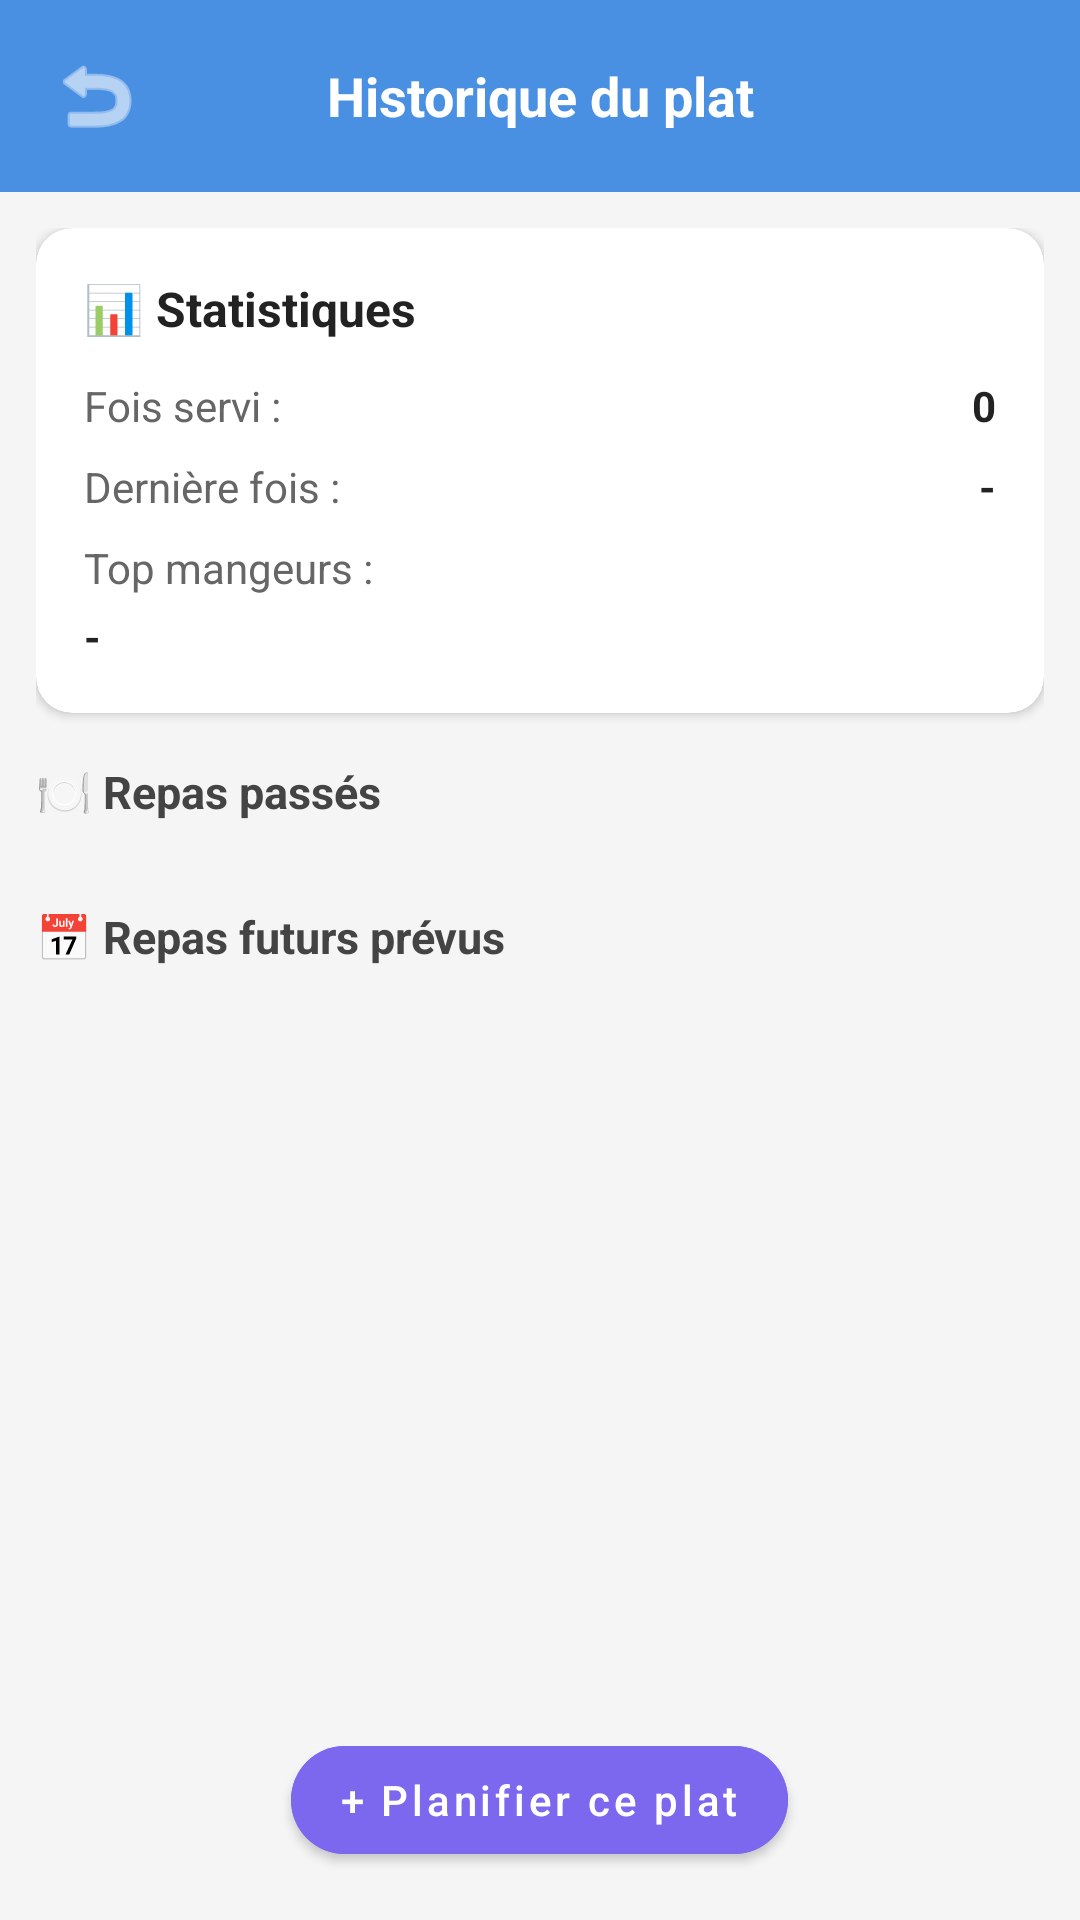

Named icons in this screenshot (1080 x 1920) and their centers, [x,y]:
Retour: [97,96]
